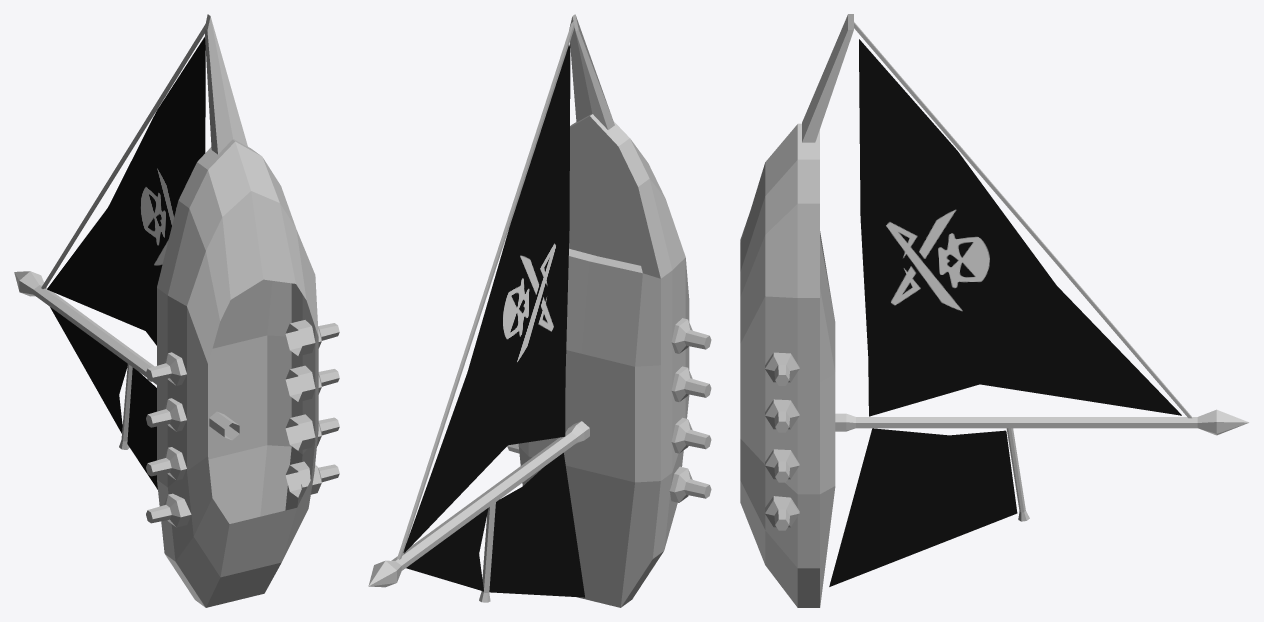
Rendered from pirate_speed_my_1.fbx.
The picture shows the model from 3 angles, left to right: view 1: azimuth 30°, elevation 25°; view 2: azimuth 150°, elevation 25°; view 3: azimuth 270°, elevation 25°; orthographic projection. The views are drawn at different scales.
Parts seen in each view (by area): view 1: Cube.229; view 2: Cube.229; view 3: Cube.229.
Boxes of the visible parts, x1,y1,x2,y2 form: Cube.229: [14, 14, 339, 607]; Cube.229: [368, 14, 711, 607]; Cube.229: [740, 14, 1249, 607].
Size of the model in its own units: 195 by 565 by 450.
